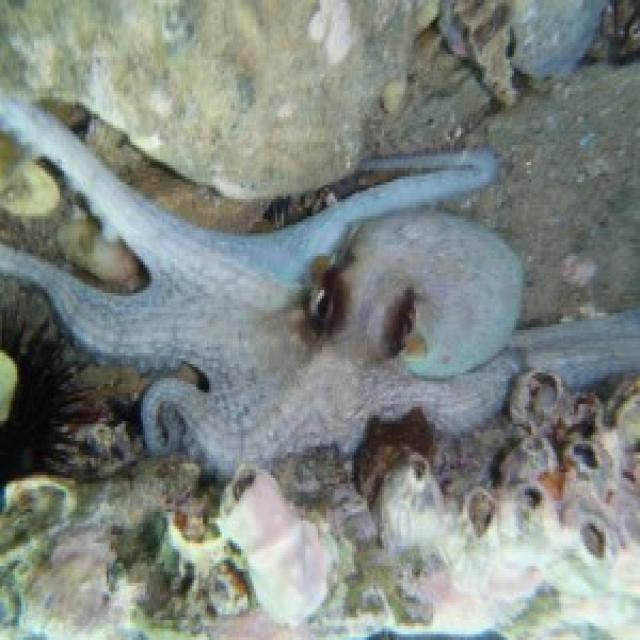Octo: (1, 82, 633, 501)
